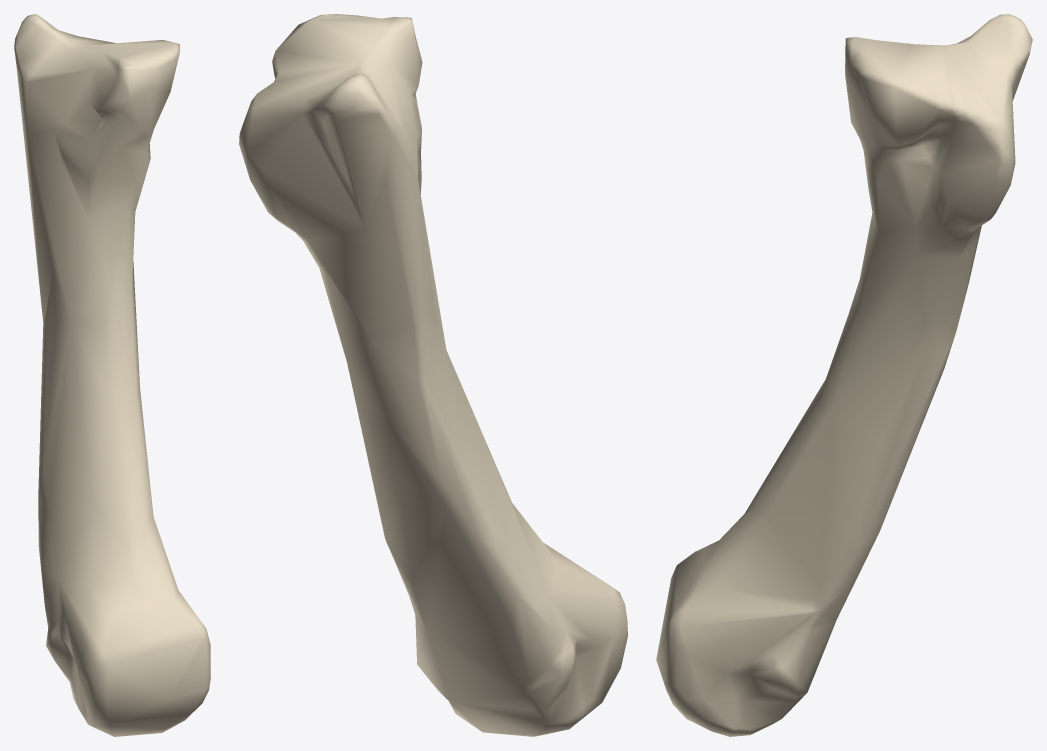
File: third-metacarpal-bone-r.glb
3 views of the same model, side by side, from view 1: azimuth 30°, elevation 25°; view 2: azimuth 150°, elevation 25°; view 3: azimuth 270°, elevation 25° (orthographic). The views are drawn at different scales.
Visible parts, largest first — view 1: Third metacarpal bone.r; view 2: Third metacarpal bone.r; view 3: Third metacarpal bone.r.
Part boxes in pixels (x1,y1,x2,y2): Third metacarpal bone.r: [14, 14, 210, 736]; Third metacarpal bone.r: [239, 14, 627, 736]; Third metacarpal bone.r: [656, 14, 1032, 736].
Bounding box in the file's own units: 0.0208 × 0.0667 × 0.0317.
